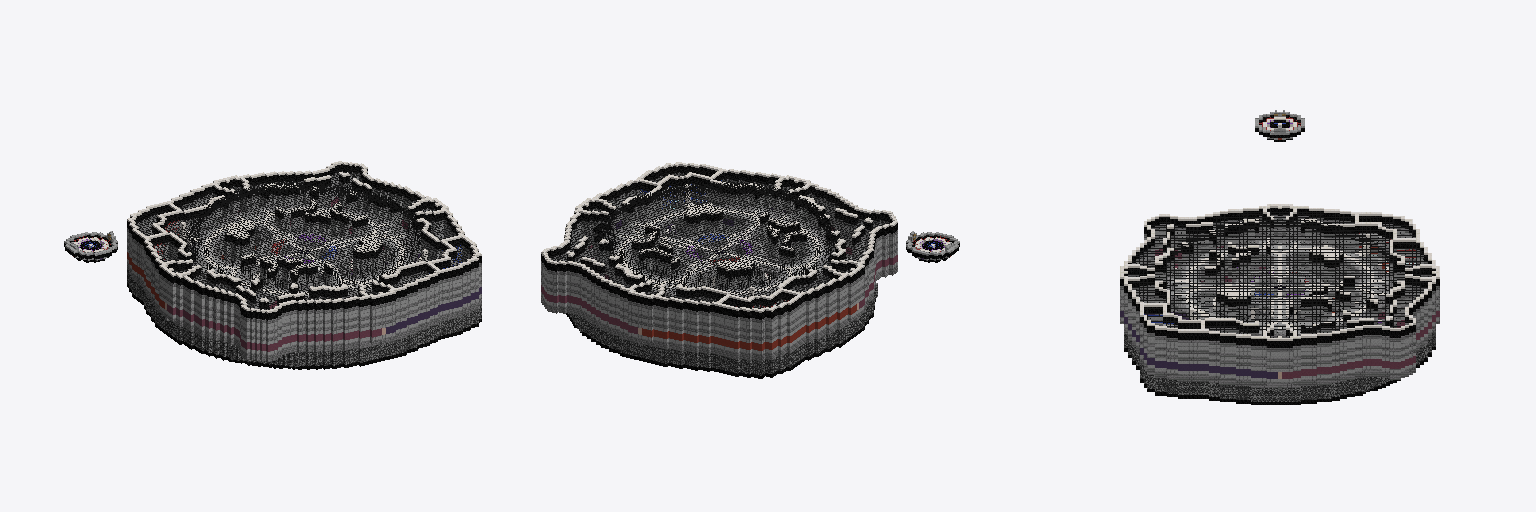
3 views of the same model, side by side, from view 1: azimuth 30°, elevation 25°; view 2: azimuth 150°, elevation 25°; view 3: azimuth 270°, elevation 25° (orthographic).
Size of the model in its own units: 1120 by 345 by 830.
Materials: 33 (30 with a texture image).